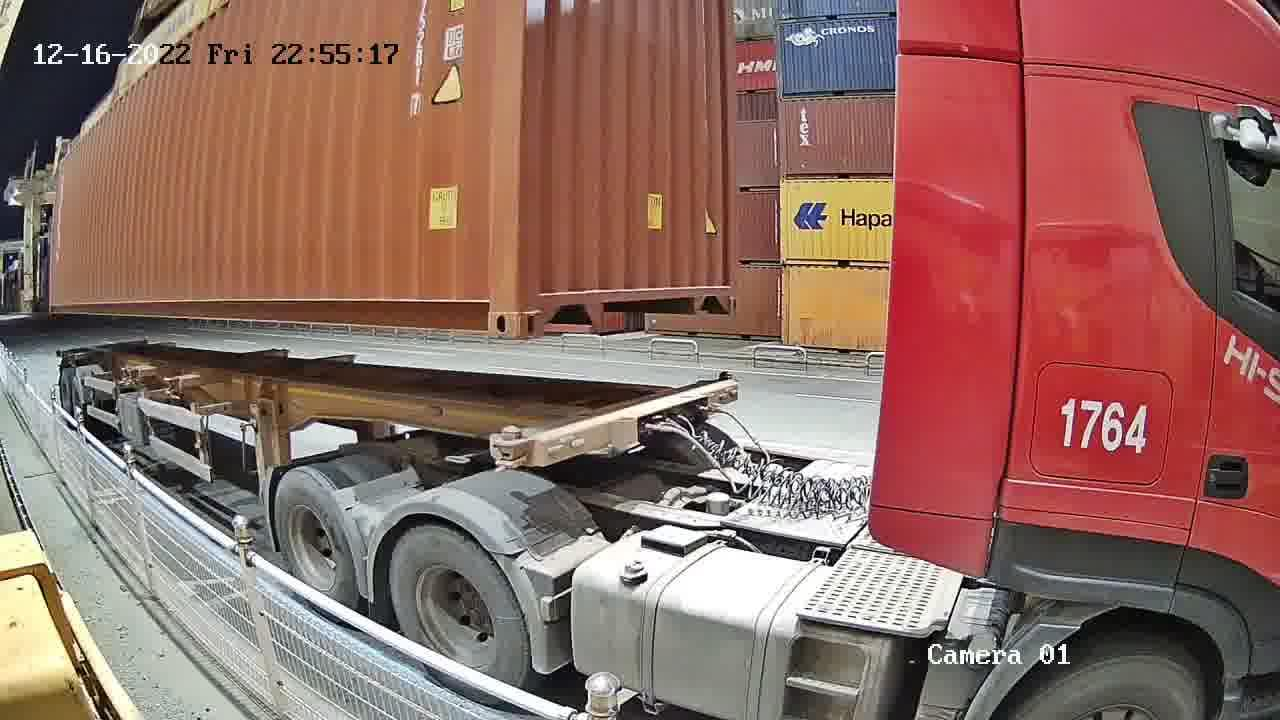Chassis: (531, 377, 739, 466)
Cone: (493, 423, 529, 468), (717, 369, 740, 400)
Hole_L: (518, 277, 573, 337)
Hole_R: (457, 277, 517, 337), (705, 268, 736, 316)
Tire: (389, 524, 528, 684), (275, 467, 353, 599)
